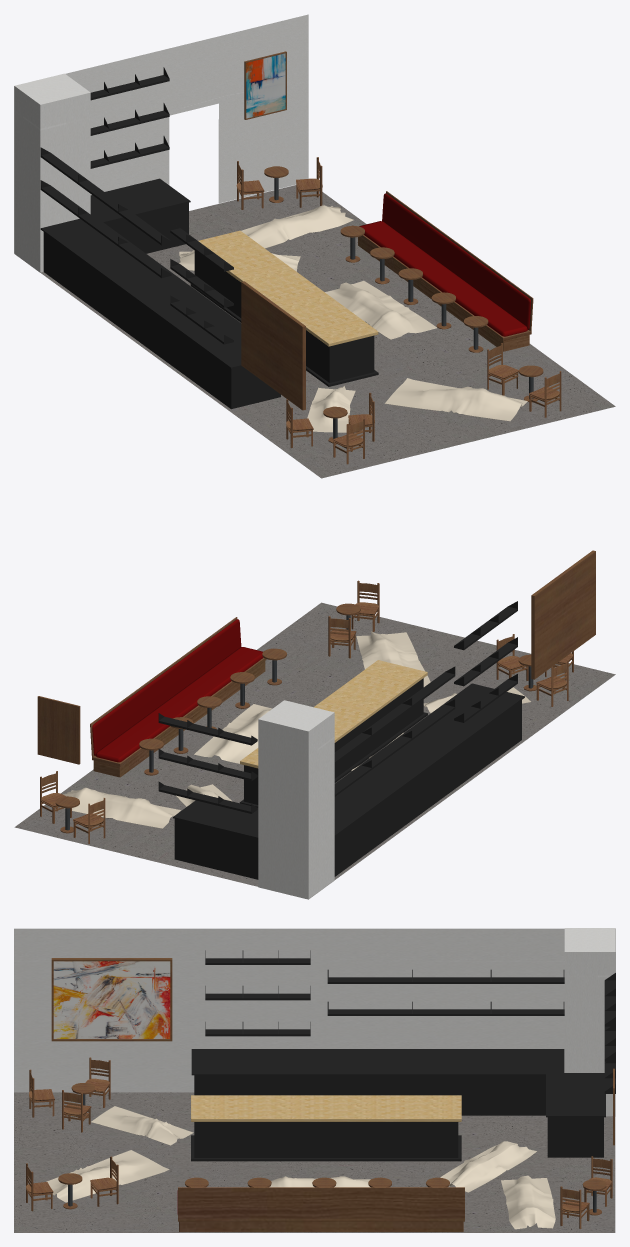
File: fullShop_retextured.gltf
The picture shows the model from 3 angles, top to bottom: view 1: azimuth 30°, elevation 25°; view 2: azimuth 150°, elevation 25°; view 3: azimuth 270°, elevation 25°; orthographic projection. The views are drawn at different scales.
Visible parts, largest first — view 1: body7:PIV; view 2: body7:PIV; view 3: body7:PIV.
Part boxes in pixels (left/top/right/bottom): body7:PIV: left=14, top=14, right=615, bottom=478; body7:PIV: left=14, top=550, right=615, bottom=899; body7:PIV: left=14, top=928, right=615, bottom=1232.
Size of the model in its own units: 139 by 75.45 by 250.
Materials: 12 (9 with a texture image).
